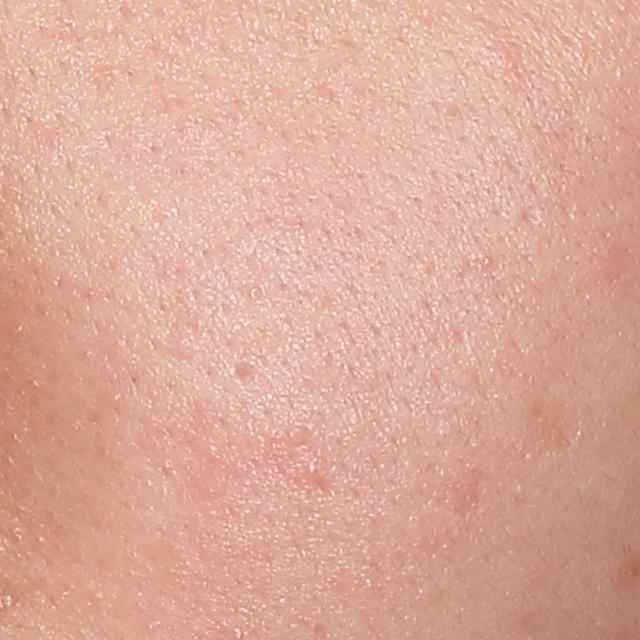comedo: (282, 422, 308, 446), (246, 285, 262, 302)
